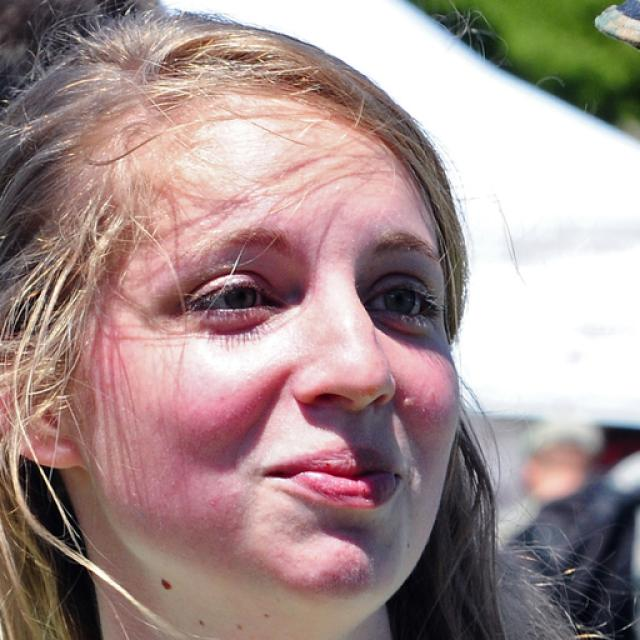Acne: (400, 392, 426, 415)
